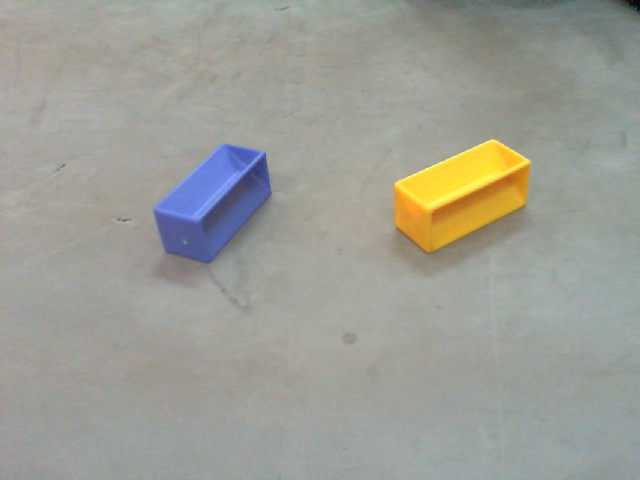BlueSample: (151, 142, 275, 265)
YellowSample: (391, 138, 534, 255)
